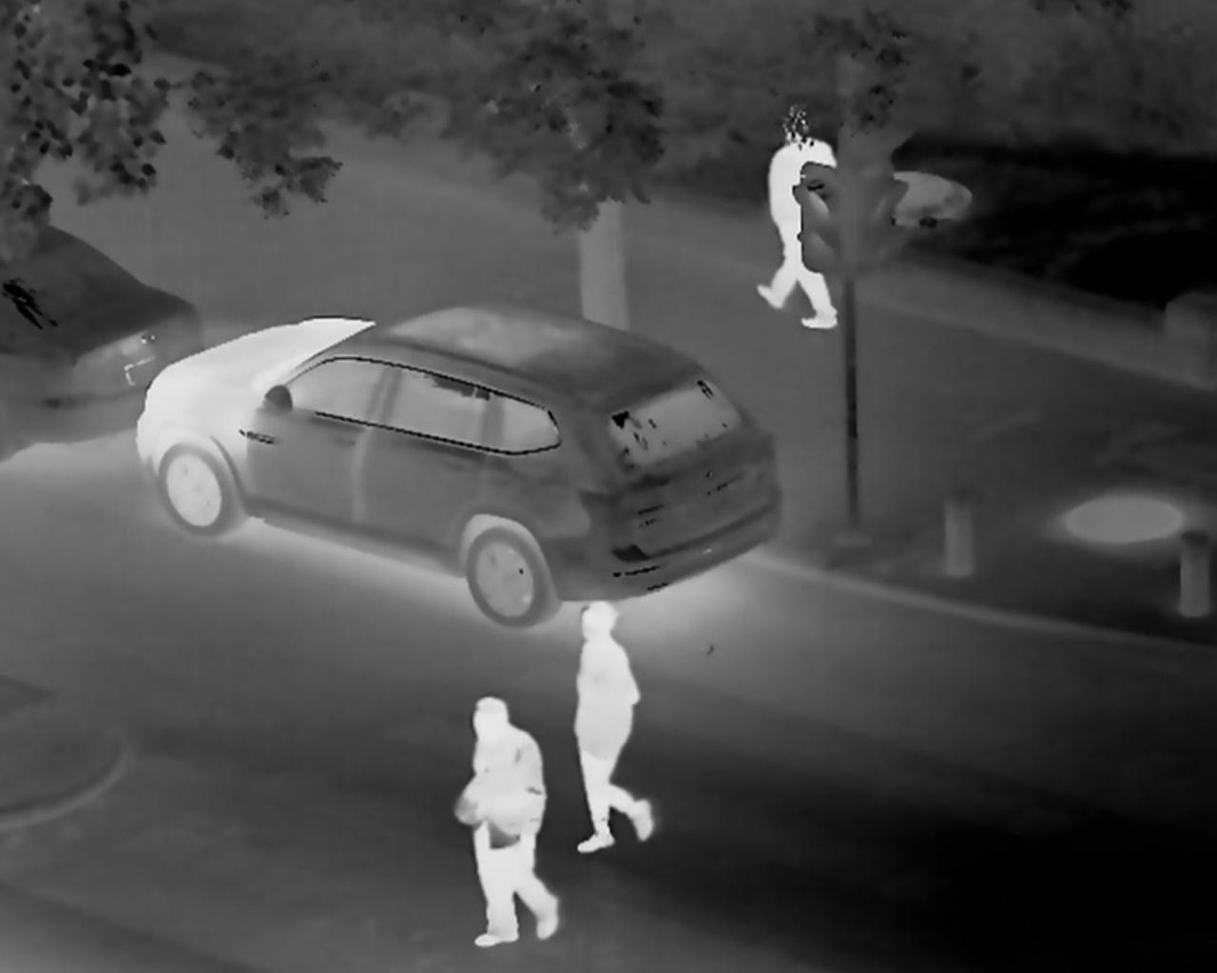person: (757, 86, 877, 371), (440, 674, 553, 931), (578, 589, 659, 830)
